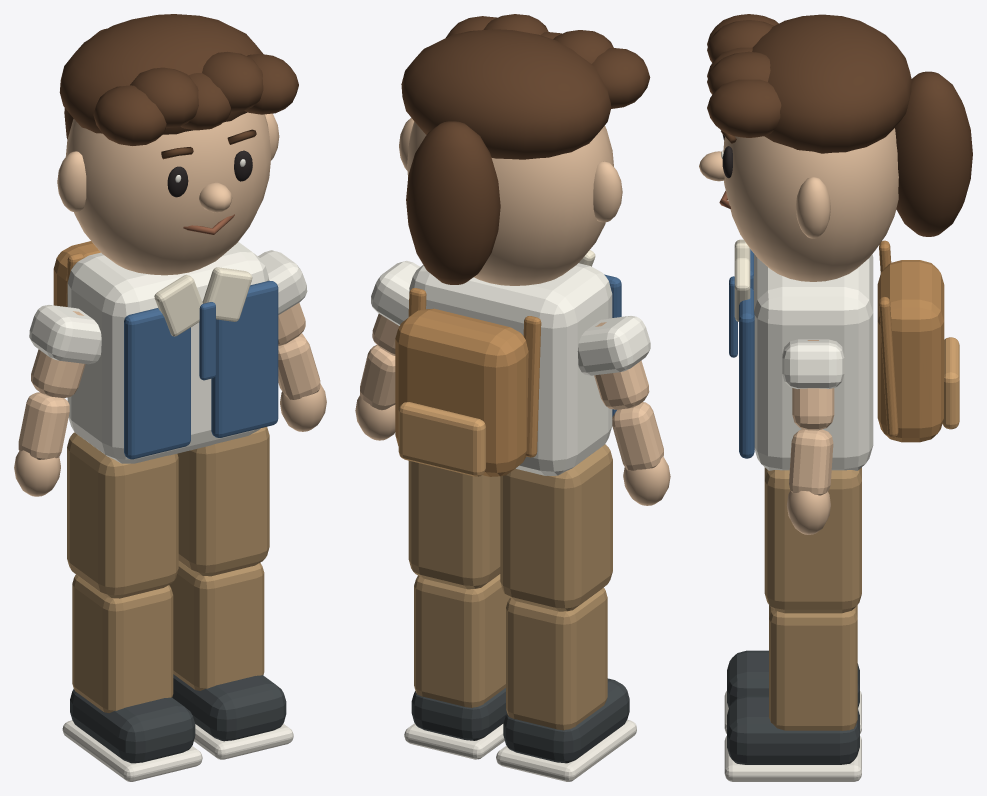
The model's file is student-female.glb.
3 renders of one model, left to right at view 1: azimuth 30°, elevation 25°; view 2: azimuth 150°, elevation 25°; view 3: azimuth 270°, elevation 25°, orthographic.
Parts seen in each view (by area): view 1: module__outfit__uniform__torso_mesh, ponytail_geometry, student_head, student_knee_left_mesh, student_knee_right_mesh, trouser_thigh, trouser_thigh.001, student_elbow_left_mesh, student_face_details, student_elbow_right_mesh, sleeve.006, upper_arm (+4 smaller); view 2: ponytail_geometry, module__accessory__backpack__body_mesh, student_knee_left_mesh, module__outfit__uniform__torso_mesh, student_knee_right_mesh, trouser_thigh, student_head, trouser_thigh.001, student_elbow_left_mesh, sleeve.006, student_elbow_right_mesh, sleeve.007 (+3 smaller); view 3: ponytail_geometry, module__outfit__uniform__torso_mesh, student_knee_right_mesh, student_head, module__accessory__backpack__body_mesh, trouser_thigh.001, student_elbow_right_mesh, sleeve.007, student_knee_left_mesh, student_face_details, upper_arm.001, student_nose.
Part boxes in pixels (x1,y1,x2,y2): module__outfit__uniform__torso_mesh: [67, 242, 278, 463]; ponytail_geometry: [59, 14, 298, 145]; student_head: [65, 112, 271, 275]; student_knee_left_mesh: [62, 575, 202, 781]; student_knee_right_mesh: [169, 561, 293, 759]; trouser_thigh: [67, 432, 178, 598]; trouser_thigh.001: [177, 427, 269, 576]; student_elbow_left_mesh: [14, 392, 69, 496]; student_face_details: [57, 113, 279, 234]; student_elbow_right_mesh: [278, 333, 326, 431]; sleeve.006: [29, 305, 101, 364]; upper_arm: [31, 311, 85, 397]; ponytail_geometry: [401, 14, 650, 284]; module__accessory__backpack__body_mesh: [395, 288, 541, 476]; student_knee_left_mesh: [496, 587, 636, 781]; module__outfit__uniform__torso_mesh: [409, 250, 621, 475]; student_knee_right_mesh: [404, 574, 509, 759]; trouser_thigh: [500, 444, 612, 611]; student_head: [407, 121, 613, 285]; trouser_thigh.001: [408, 460, 500, 589]; student_elbow_left_mesh: [612, 402, 670, 505]; sleeve.006: [577, 316, 650, 375]; student_elbow_right_mesh: [355, 345, 395, 440]; sleeve.007: [371, 260, 419, 325]; ponytail_geometry: [707, 14, 972, 236]; module__outfit__uniform__torso_mesh: [729, 239, 873, 470]; student_knee_right_mesh: [724, 605, 861, 781]; student_head: [723, 128, 898, 281]; module__accessory__backpack__body_mesh: [877, 240, 959, 442]; trouser_thigh.001: [764, 467, 861, 613]; student_elbow_right_mesh: [787, 428, 833, 534]; sleeve.007: [782, 339, 844, 388]; student_knee_left_mesh: [724, 650, 861, 733]; student_face_details: [719, 130, 830, 238]; upper_arm.001: [792, 340, 834, 430]; student_nose: [699, 151, 724, 181].
Size of the model in its own units: 0.81 by 1.77 by 0.618.
